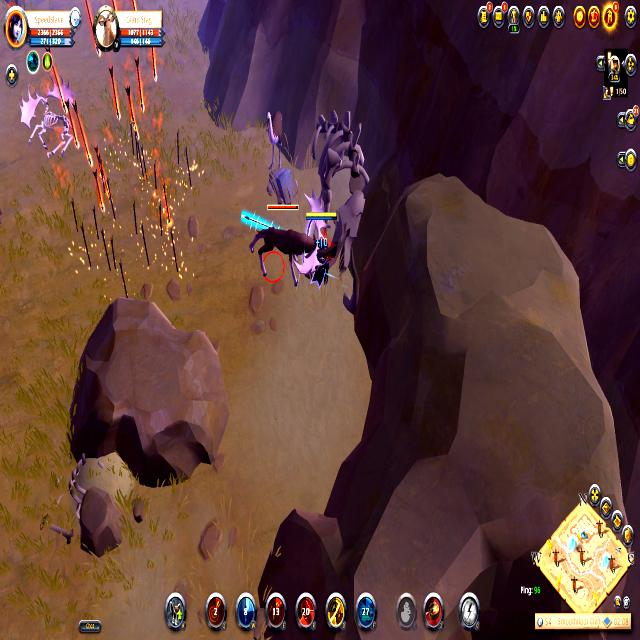ore: (245, 203, 306, 291)
red: (306, 210, 338, 292)
